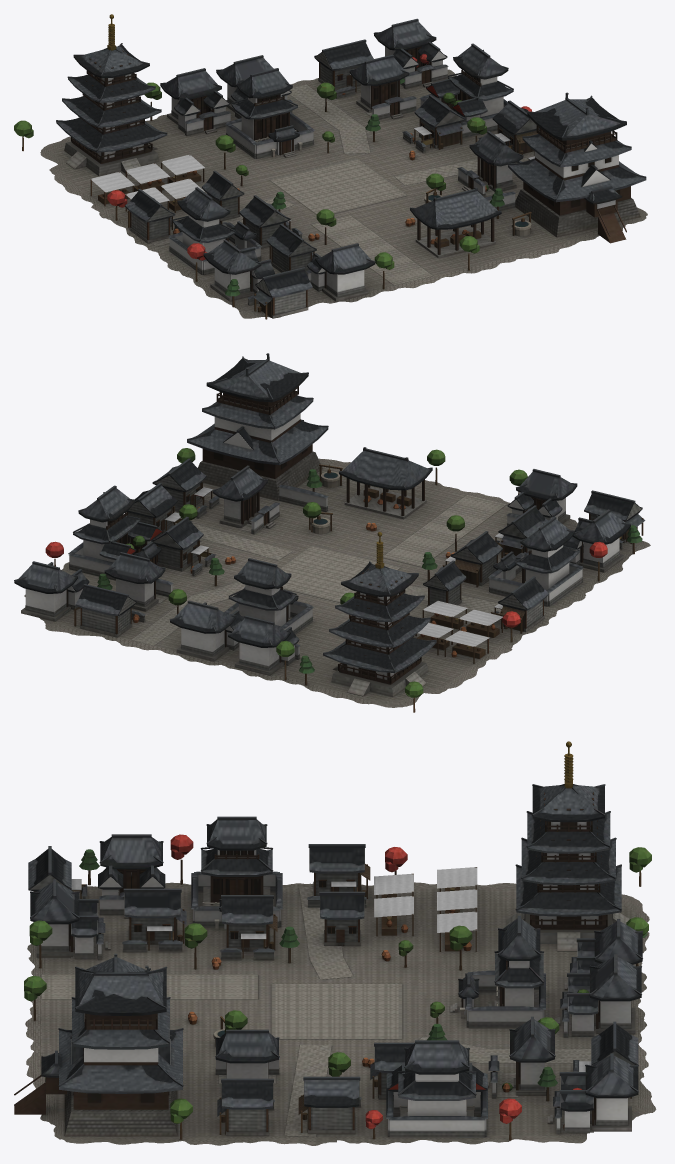
File: kingdoms-town-medium-b-japan.glb
3 views of the same model, one above another, from view 1: azimuth 30°, elevation 25°; view 2: azimuth 150°, elevation 25°; view 3: azimuth 270°, elevation 25° (orthographic). The views are drawn at different scales.
Parts seen in each view (by area): view 1: LOD0; view 2: LOD0; view 3: LOD0.
Boxes of the visible parts, x1,y1,x2,y2 form: LOD0: (14, 14, 647, 319); LOD0: (14, 353, 650, 712); LOD0: (14, 741, 656, 1145).
Size of what is drawn, in the model's own units: 6.04 by 1.95 by 6.14.
Materials: 3 (3 with a texture image).
